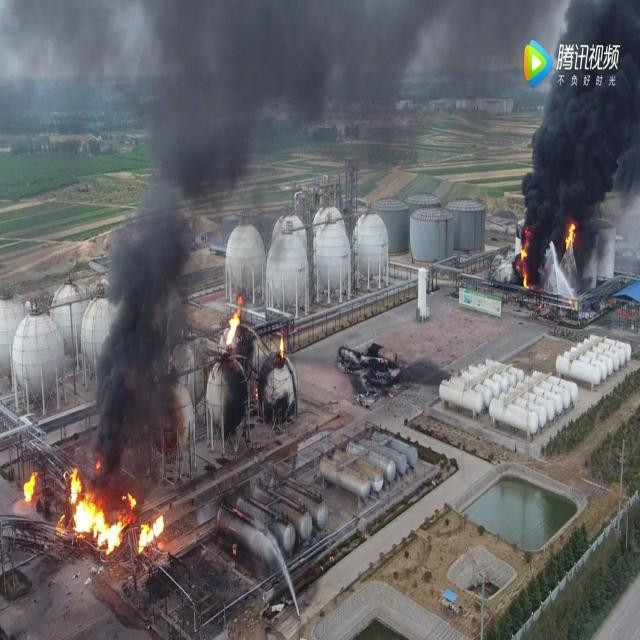Fire: (57, 459, 164, 557), (515, 226, 533, 290), (225, 294, 243, 344), (22, 469, 38, 504), (564, 218, 577, 250), (278, 330, 286, 365)
Smoke: (0, 1, 639, 528)
